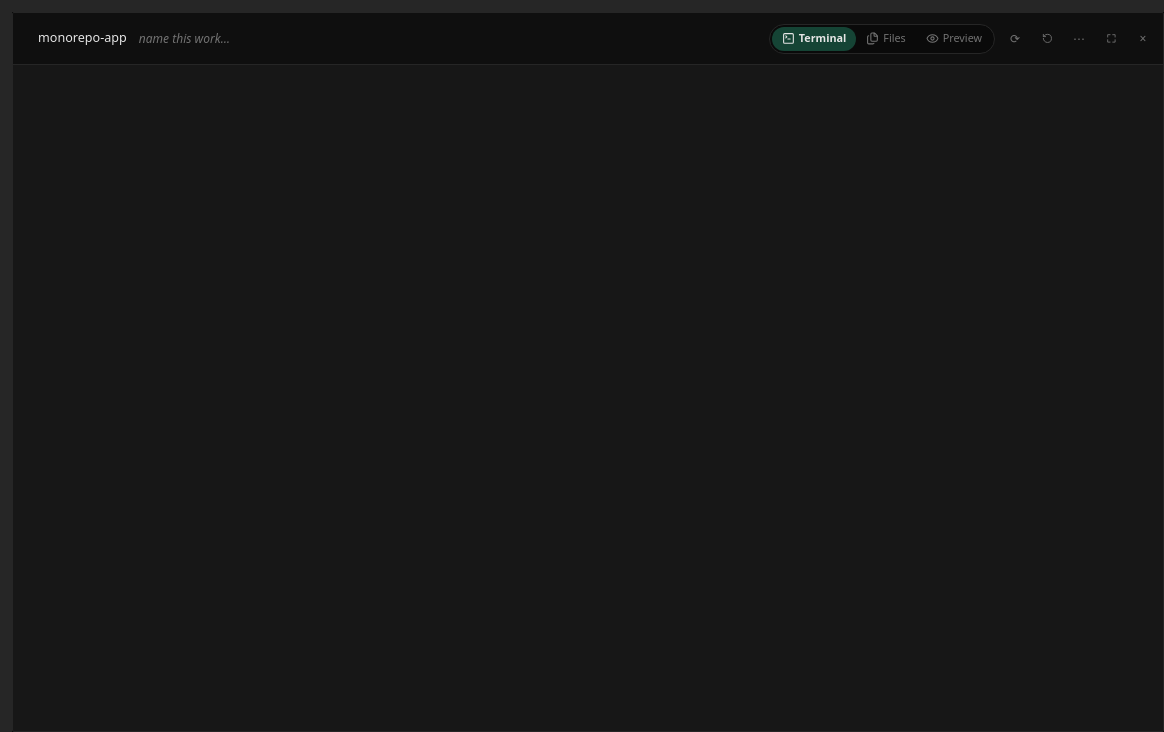
Tile header context menu: IDs › shows the Terminal ID (copyable) and copies it on click
Right-click the element showing "monorepo-app name this work… Terminal Files Preview ⟳ ⋯ ×" at (588,39), box top-left (13, 13), bottom-right (1163, 65)
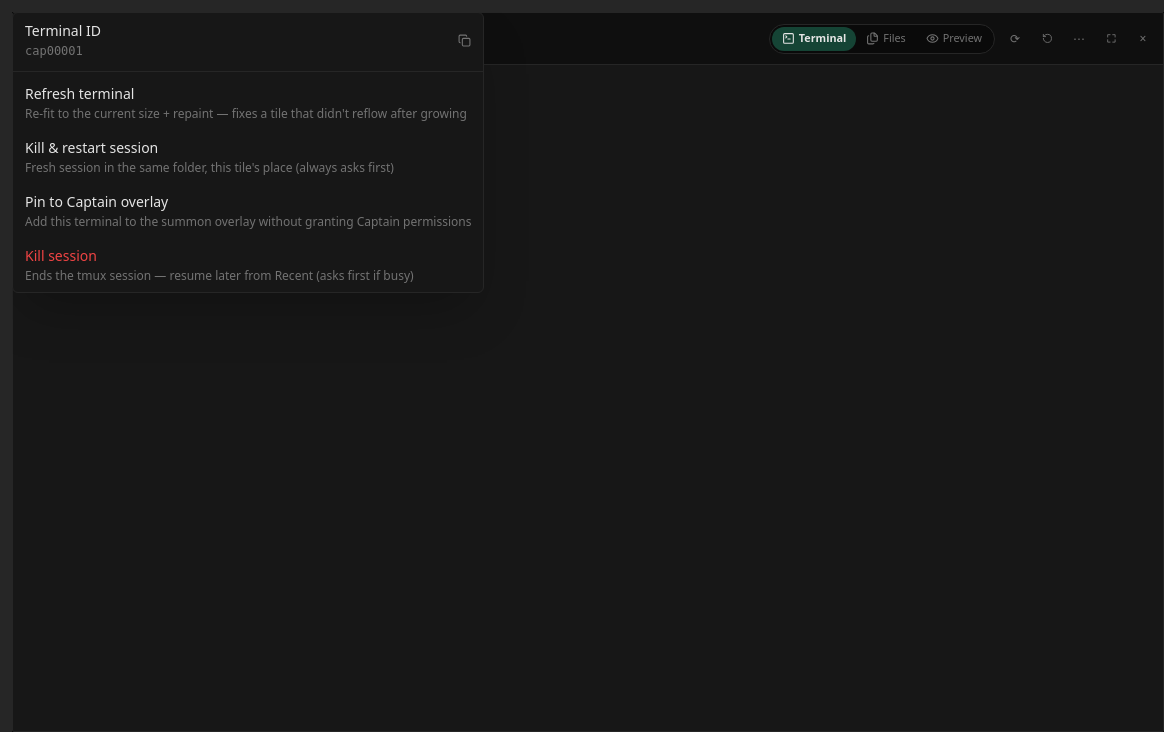
Now the text "Terminal ID" is shown
Now the text "Terminal ID" shows "cap00001"
Click the button titled "Copy Terminal ID" at (63,30), box top-left (13, 13), bottom-right (484, 67)
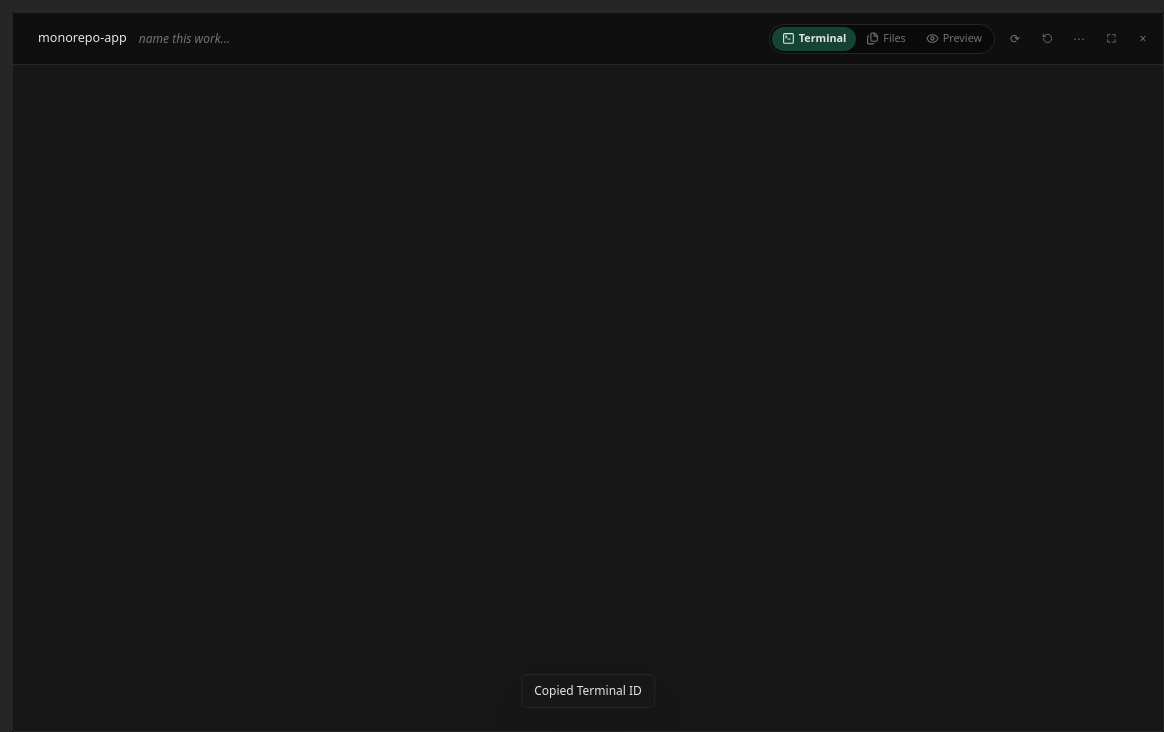
Now the text "Copied Terminal ID" is shown, box top-left (521, 674), bottom-right (655, 708)
